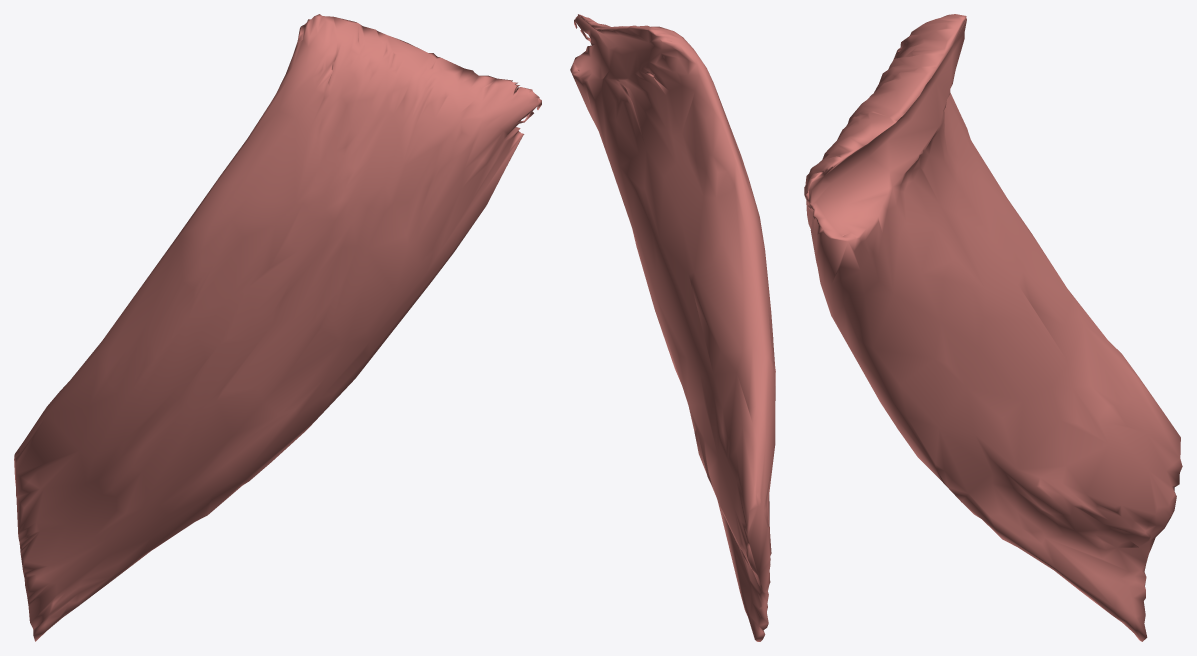
3 renders of one model, left to right at view 1: azimuth 30°, elevation 25°; view 2: azimuth 150°, elevation 25°; view 3: azimuth 270°, elevation 25°, orthographic. The views are drawn at different scales.
Visible parts, largest first — view 1: ZA_67587a3f80f0a97a; view 2: ZA_67587a3f80f0a97a; view 3: ZA_67587a3f80f0a97a.
Part boxes in pixels (box(x1,y1,x2,y2)): ZA_67587a3f80f0a97a: box(14, 14, 541, 641); ZA_67587a3f80f0a97a: box(570, 14, 775, 641); ZA_67587a3f80f0a97a: box(804, 14, 1182, 641).
Size of the model in its own units: 0.0828 by 0.1312 by 0.0606.
